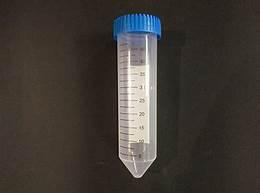Test tube: (106, 6, 165, 179)
